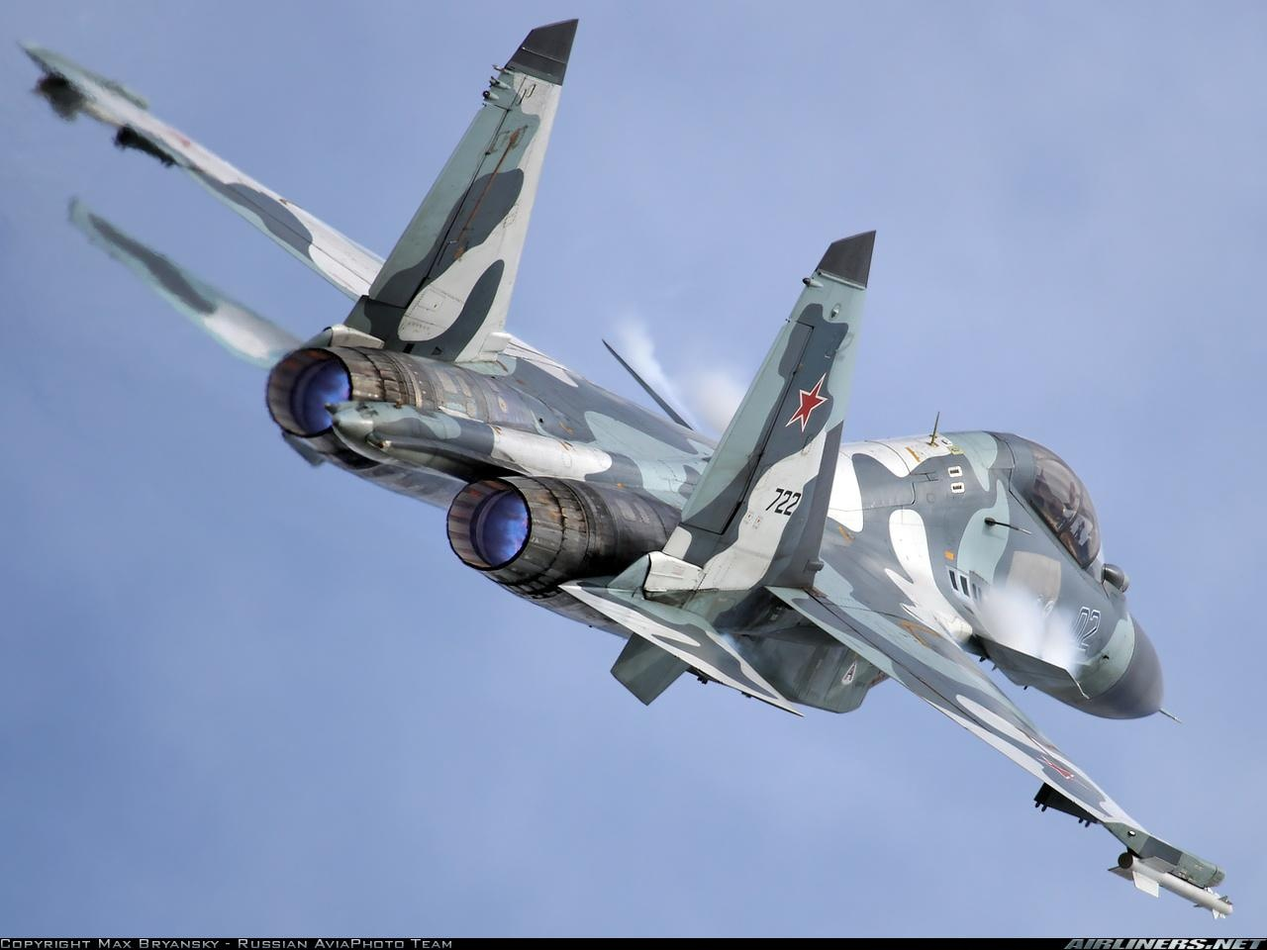aircraft: (228, 7, 1248, 886), (1, 19, 1240, 736)
